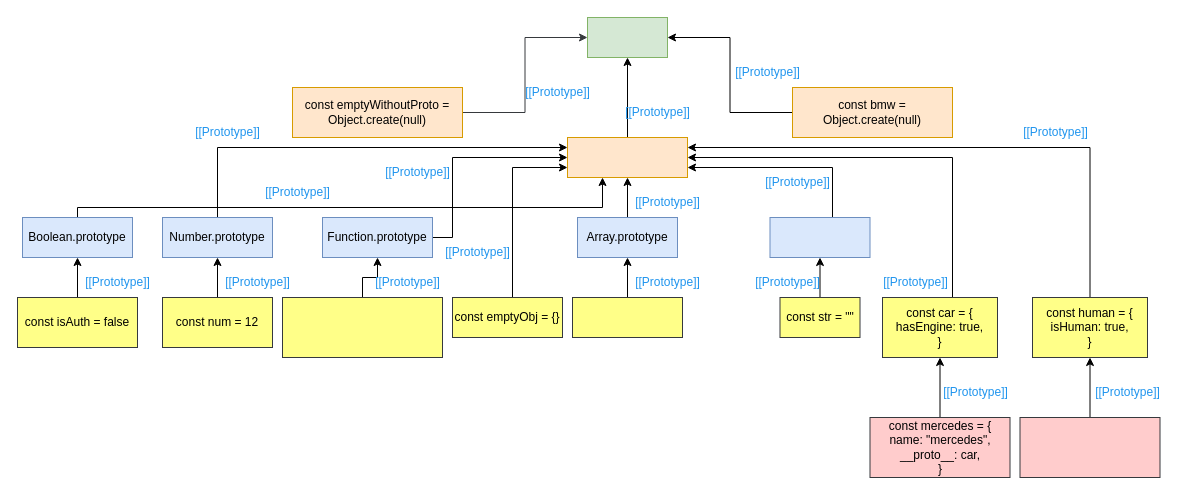
Image size: 1190x495. Some labels were removed from this diagram. Each missing label, with the centre of its shape:
const arr = [1, 2, 3]: point 627,317
const user = { name: "Your name", __proto__: human, }: point 1089,447
function fn() { console.log("hello, world!"); }: point 362,327
null: point 627,37
Object.prototype: point 627,157
String.prototype: point 819,237
